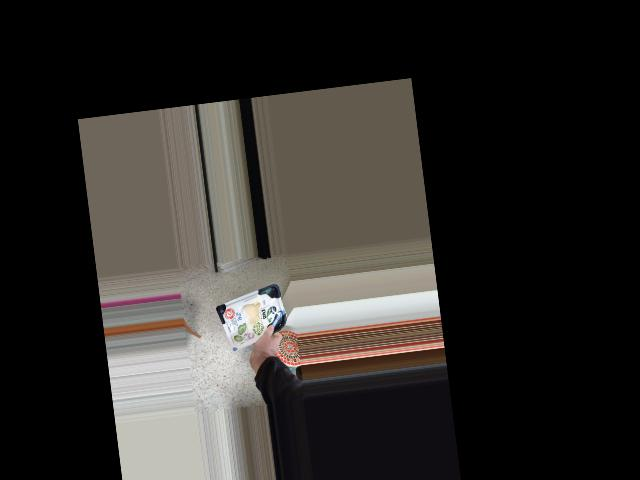cheese: (217, 282, 290, 352)
